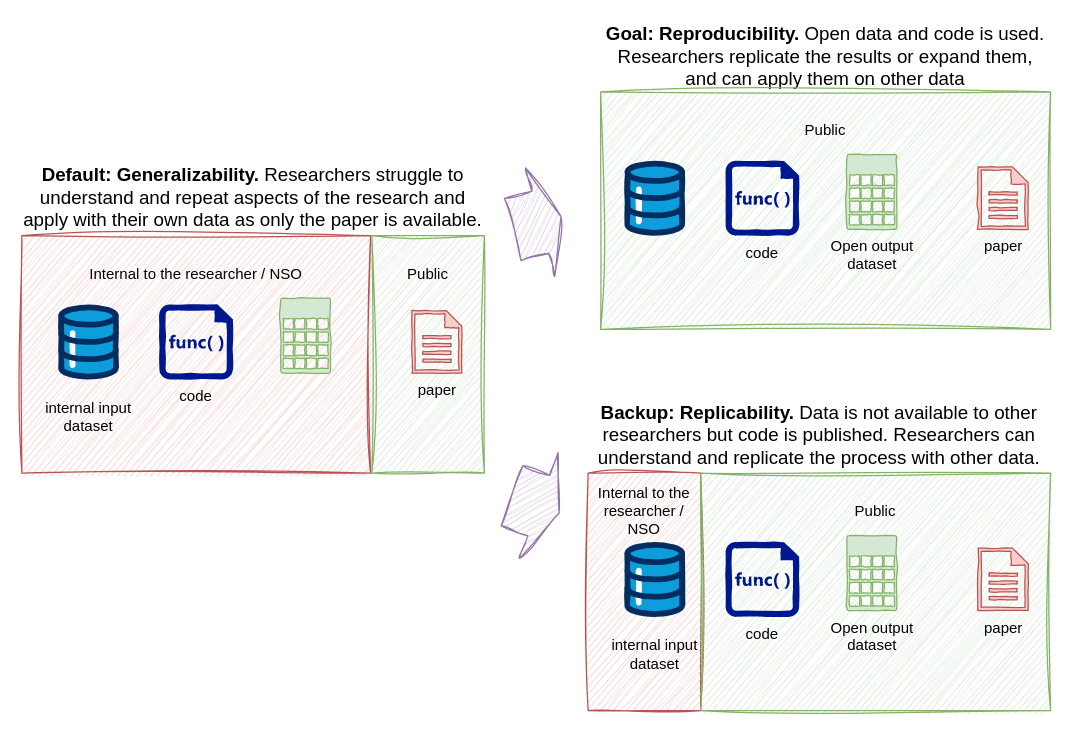
Image size: 1073x733. Some labels were removed from this diagram. Here are the shapes that lost their labels. From the top down, the box of each, then its label:
(623, 159, 685, 236): Open input dataset
(279, 297, 331, 373): Internal output dataset
